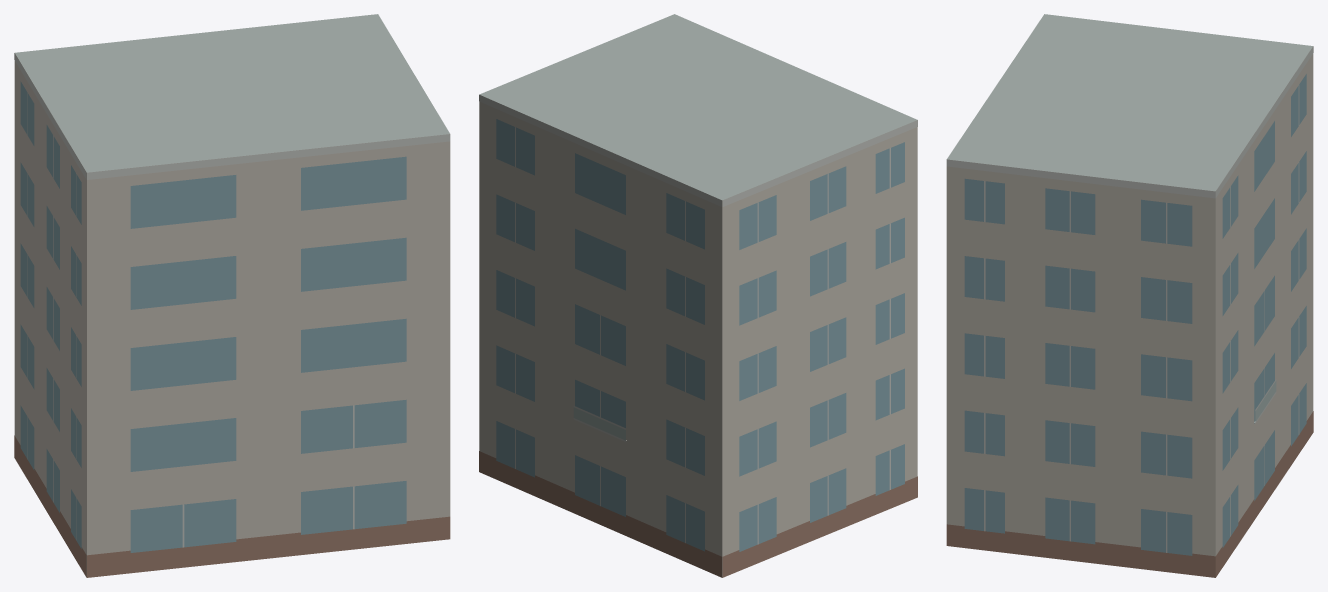
Rendered from survey-upis-32655048.glb.
3 renders of one model, left to right at view 1: azimuth 30°, elevation 25°; view 2: azimuth 150°, elevation 25°; view 3: azimuth 270°, elevation 25°, orthographic. The views are drawn at different scales.
Visible parts, largest first — view 1: survey-upis-32655048.tmp; view 2: survey-upis-32655048.tmp; view 3: survey-upis-32655048.tmp.
Boxes of the visible parts, bbox=[...] form: survey-upis-32655048.tmp: bbox=[14, 14, 450, 577]; survey-upis-32655048.tmp: bbox=[479, 14, 917, 577]; survey-upis-32655048.tmp: bbox=[946, 14, 1313, 577].
Size of the model in its own units: 13.2 by 13.4 by 11.53.
